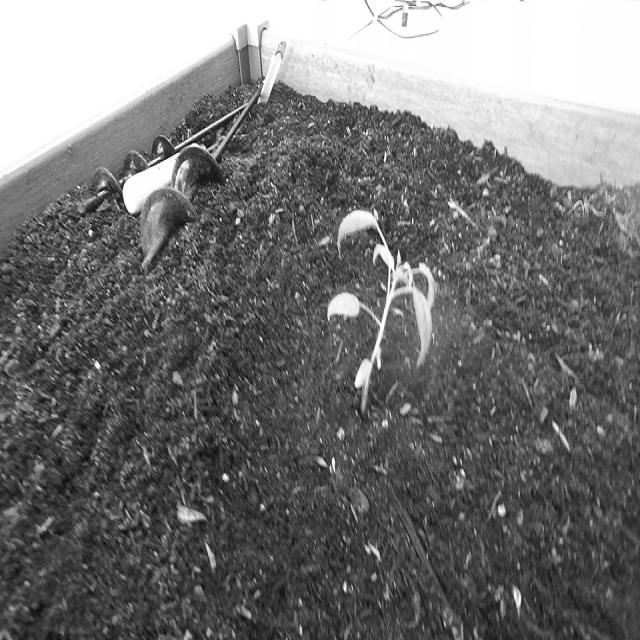Healthy: (322, 196, 443, 421)
